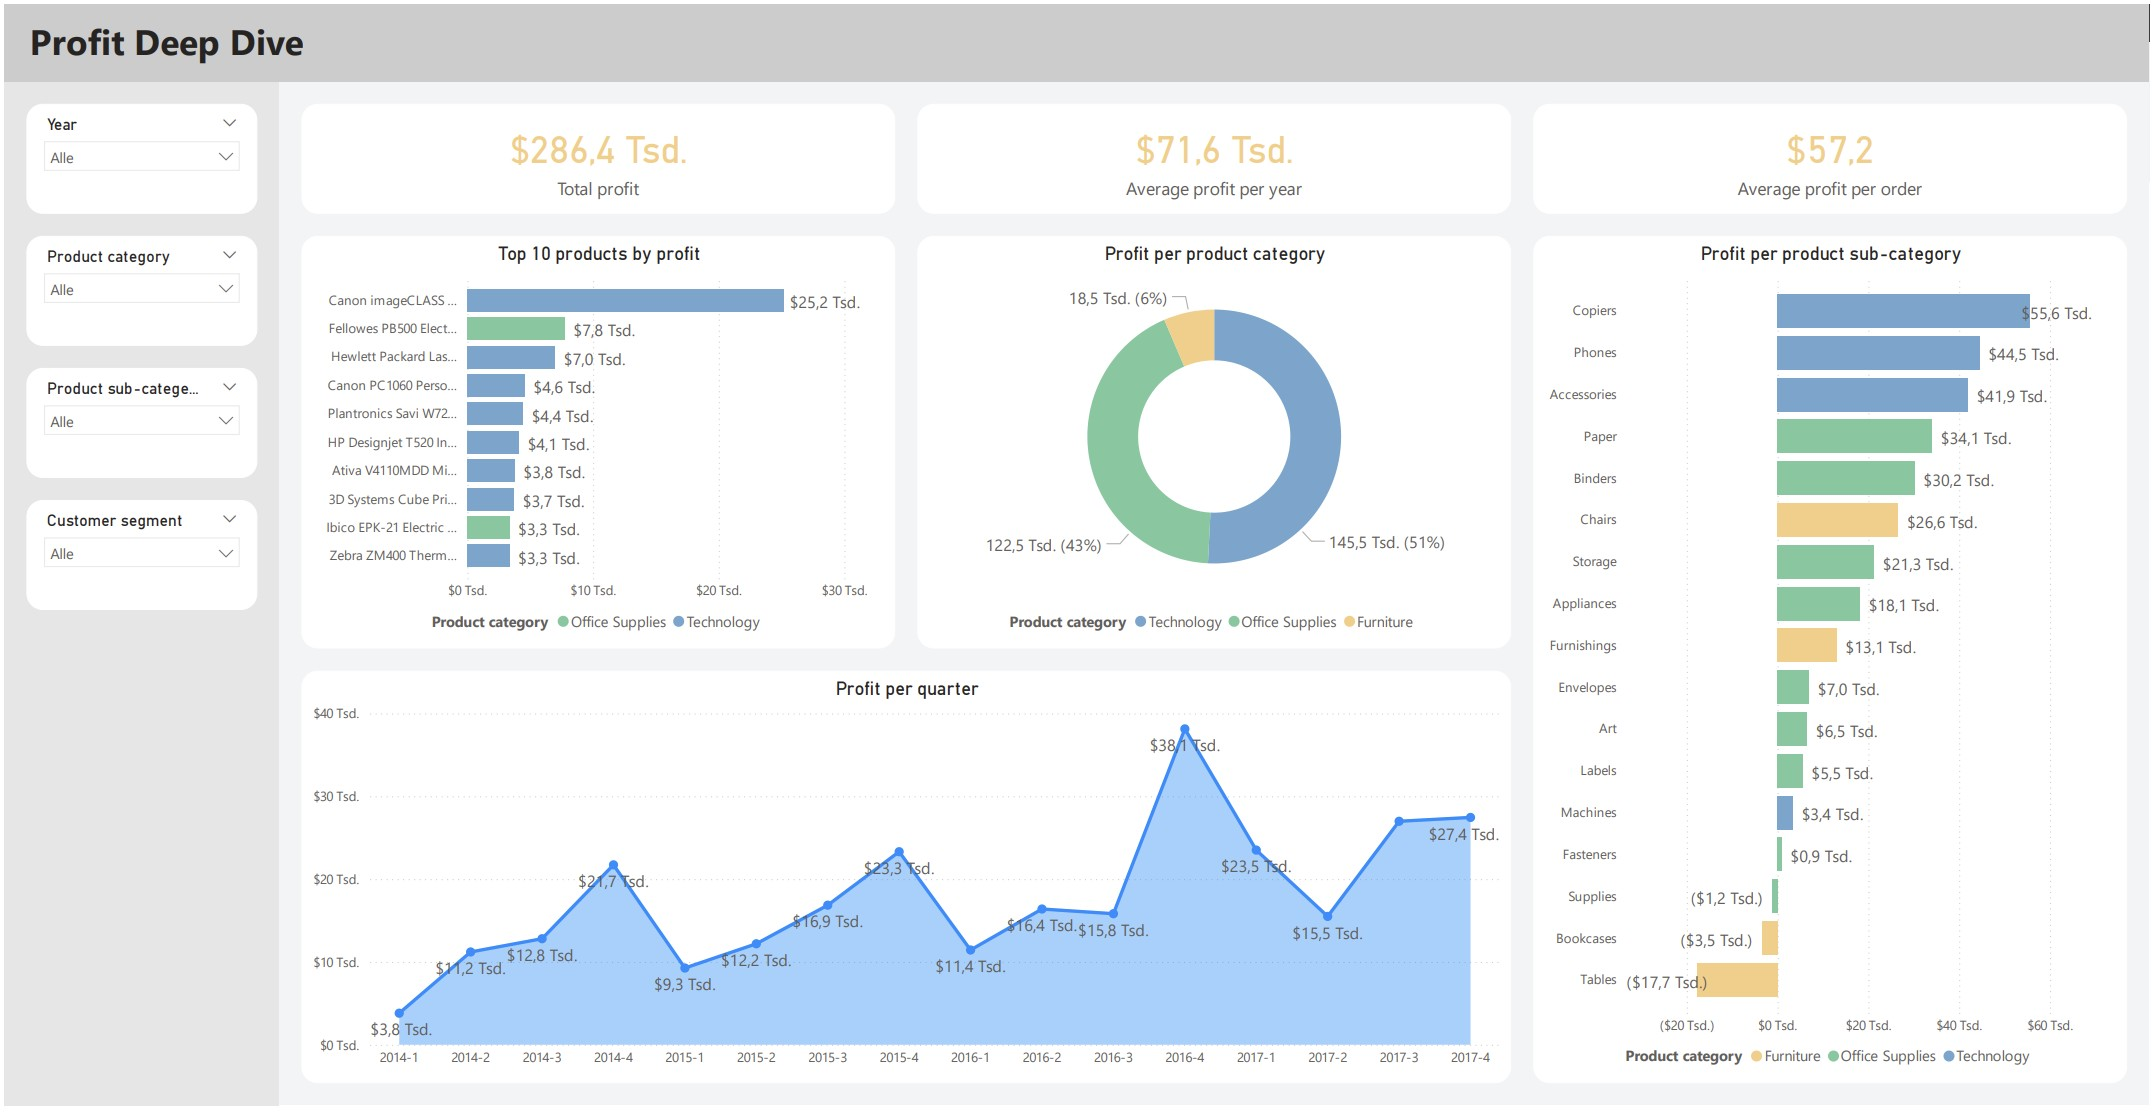

This screenshot's page, from the dashboard's own definition file:
{"tool":"powerbi","page":{"name":"Profit Deep Dive","canvas":[1950,1000],"ordinal":1},"visuals":[{"type":"textbox","box":[0,0,250,1100],"z":0},{"type":"textbox","box":[0,0,1950,70],"z":1000},{"type":"card","fields":{"Values":["public fact_product_to_orders.Average profit per order"]},"box":[1390,90,540,100],"z":2000},{"type":"card","fields":{"Values":["public fact_product_to_orders.Average profit per year"]},"box":[830,90,540,100],"z":3000},{"type":"barChart","title":"Top 10 products by profit","fields":{"Category":["public dim_products.product_name"],"Y":["Sum(public fact_product_to_orders.profit)"],"Series":["public dim_products.product_category"]},"box":[270,210,540,375],"z":4000},{"type":"barChart","title":"Profit per product sub-category","fields":{"Category":["public dim_products.product_sub_category"],"Y":["Sum(public fact_product_to_orders.profit)"],"Series":["public dim_products.product_category"]},"box":[1390,210,540,770],"z":5000},{"type":"stackedAreaChart","title":"Profit per quarter","fields":{"Category":["public fact_orders.order_date_year_quarter"],"Y":["Sum(public fact_product_to_orders.profit)"]},"box":[270,605,1100,375],"z":6000},{"type":"slicer","fields":{"Values":["public fact_orders.order_date_year"]},"box":[20,90,210,100],"z":7000},{"type":"slicer","fields":{"Values":["public dim_products.product_sub_category"]},"box":[20,330,210,100],"z":8000},{"type":"slicer","fields":{"Values":["public dim_products.product_category"]},"box":[20,210,210,100],"z":9000},{"type":"slicer","fields":{"Values":["public dim_customers.segment"]},"box":[20,450,210,100],"z":10000},{"type":"donutChart","title":"Profit per product category","fields":{"Category":["public dim_products.product_category"],"Y":["Sum(public fact_product_to_orders.profit)"]},"box":[830,210,540,375],"z":11000},{"type":"card","fields":{"Values":["Sum(public fact_product_to_orders.profit)"]},"box":[270,90,540,100],"z":12000}]}

Visuals, with their boxes in screenshot pixels (x1, y1, x2, y2), scaled from the page's 1950x1000 canvas onto the 2155x1112 screenshot:
textbox: <box>0,0,276,1111</box>
textbox: <box>0,0,2154,78</box>
card - public fact_product_to_orders.Average profit per order: <box>1536,100,2133,211</box>
card - public fact_product_to_orders.Average profit per year: <box>917,100,1514,211</box>
"Top 10 products by profit" barChart: <box>298,234,895,651</box>
"Profit per product sub-category" barChart: <box>1536,234,2133,1090</box>
"Profit per quarter" stackedAreaChart: <box>298,673,1514,1090</box>
slicer - public fact_orders.order_date_year: <box>22,100,254,211</box>
slicer - public dim_products.product_sub_category: <box>22,367,254,478</box>
slicer - public dim_products.product_category: <box>22,234,254,345</box>
slicer - public dim_customers.segment: <box>22,500,254,612</box>
"Profit per product category" donutChart: <box>917,234,1514,651</box>
card - Sum(public fact_product_to_orders.profit): <box>298,100,895,211</box>
